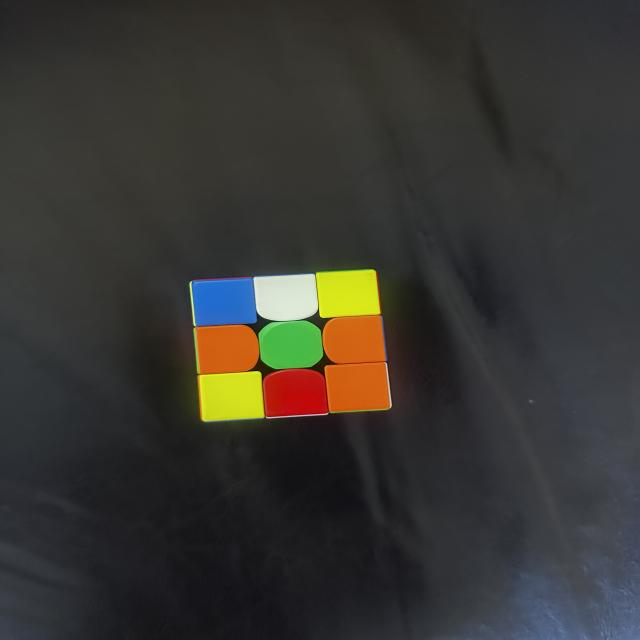sticker: (260, 366, 330, 421), (314, 268, 383, 320), (192, 324, 260, 376), (198, 371, 266, 423), (323, 362, 391, 414), (190, 277, 258, 329), (250, 274, 320, 324), (258, 320, 324, 371), (321, 315, 386, 366)
